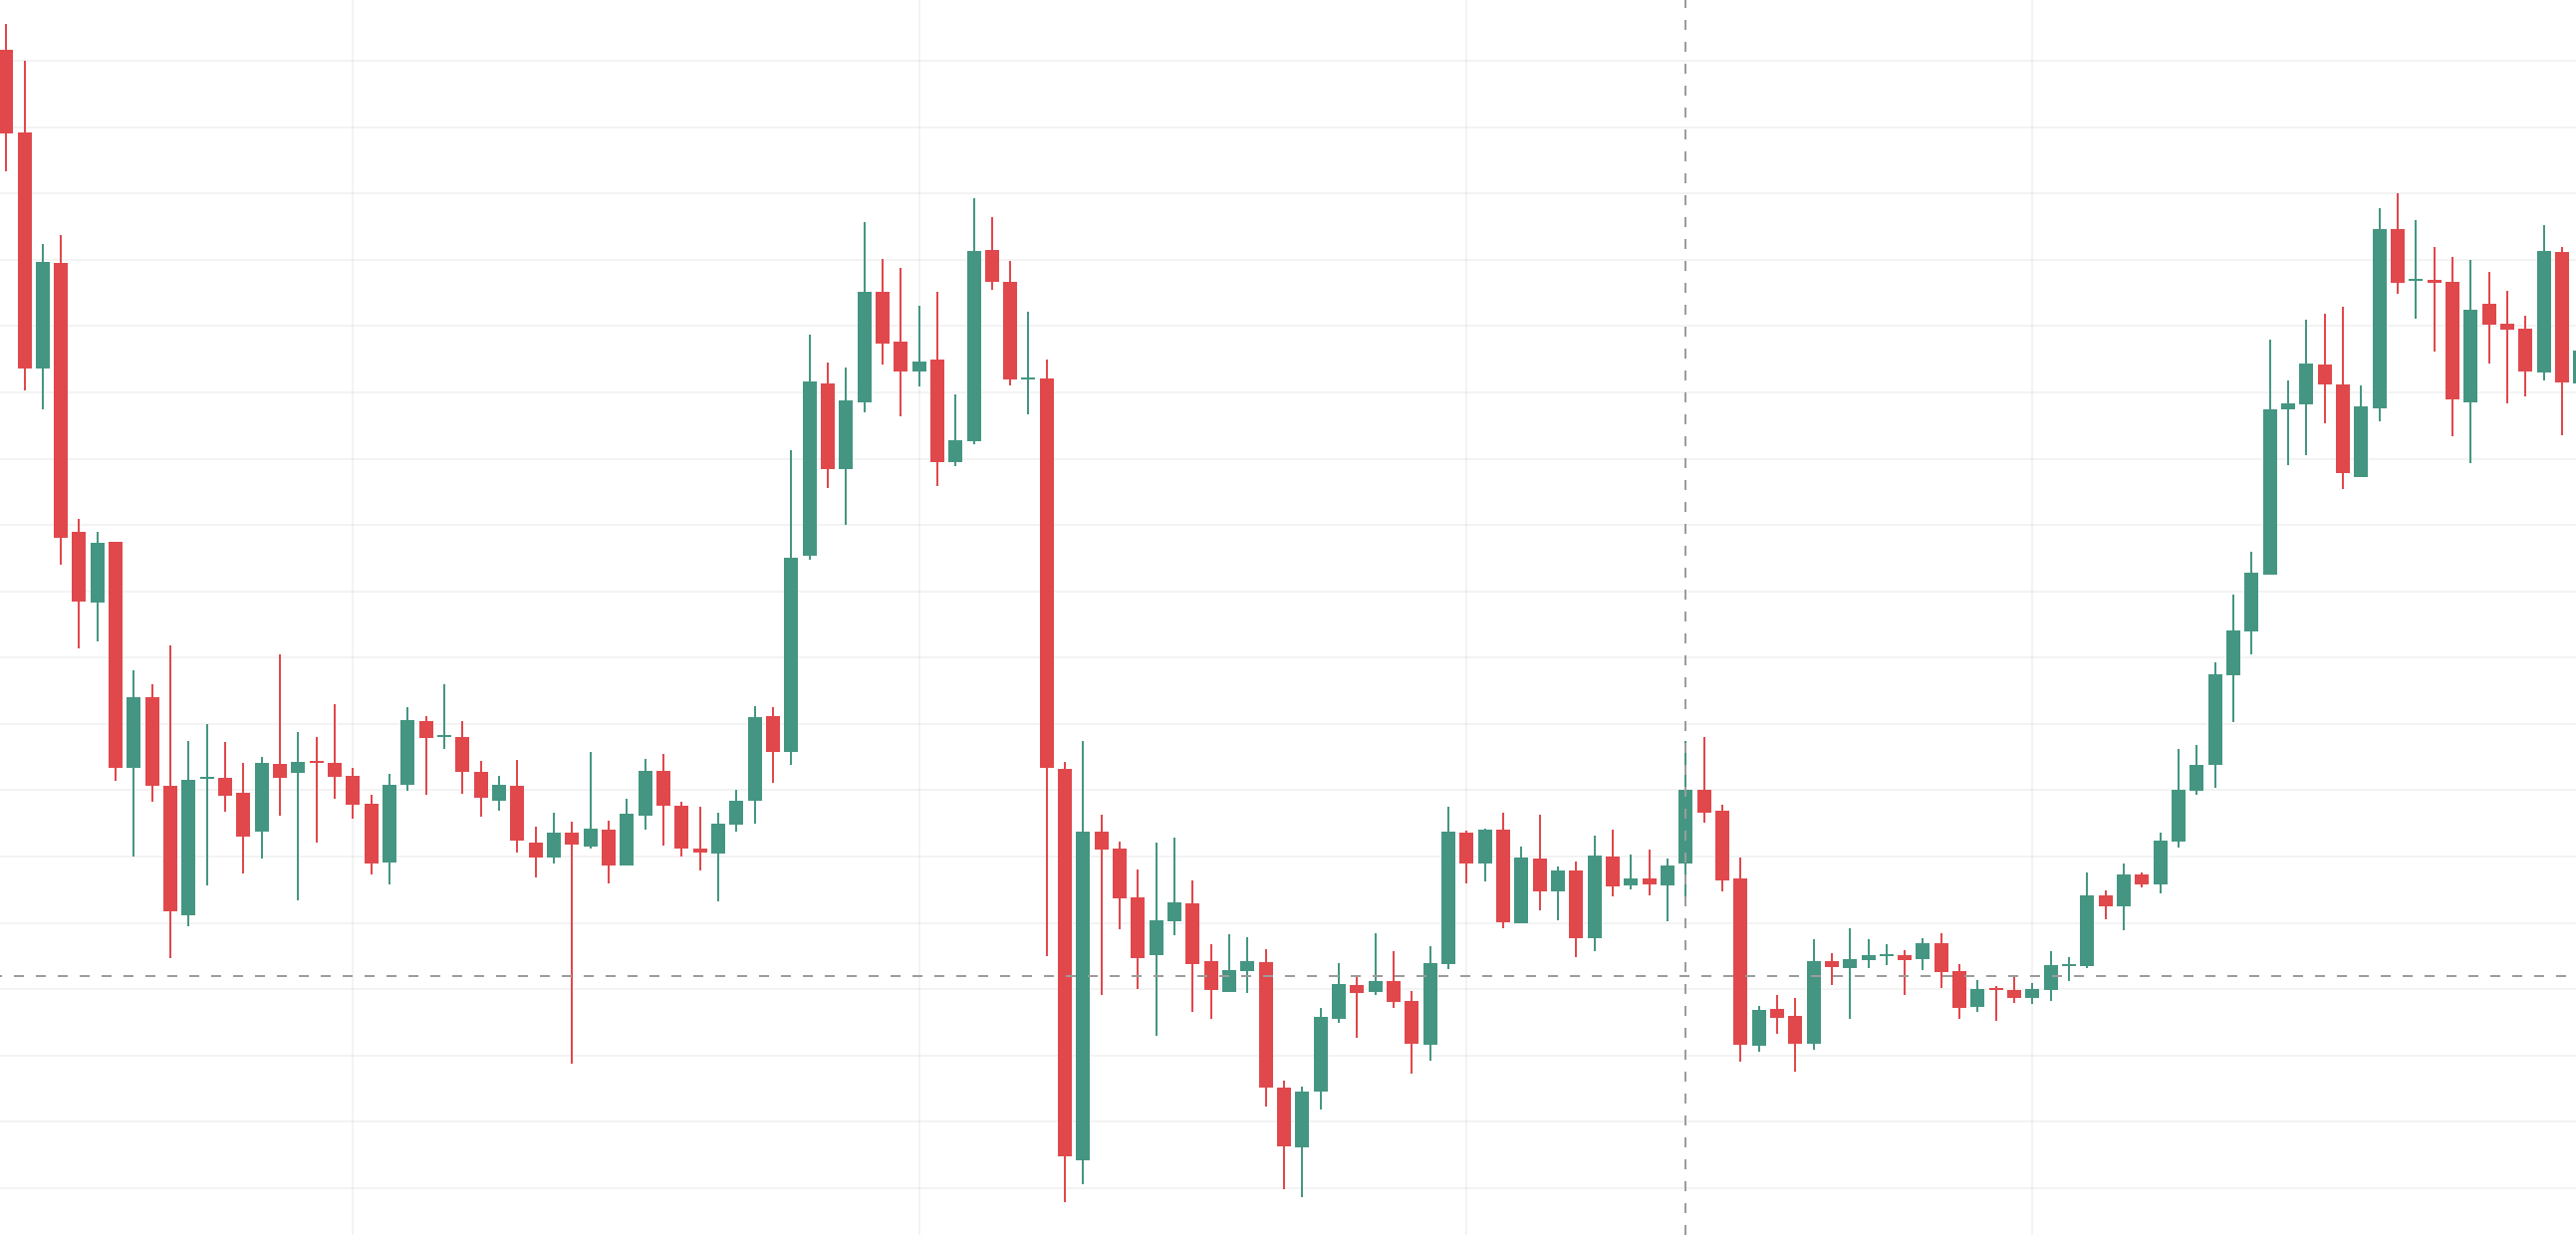V-turn: (904, 115, 1097, 1227)
